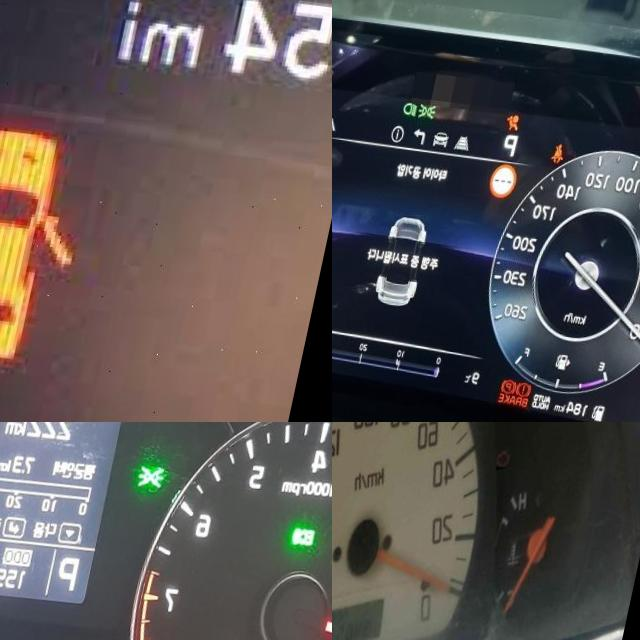LaneCenteringOff: (332, 108, 347, 125)
Low beam: (411, 93, 427, 110)
SideLamp: (151, 453, 180, 481), (426, 94, 446, 112)
